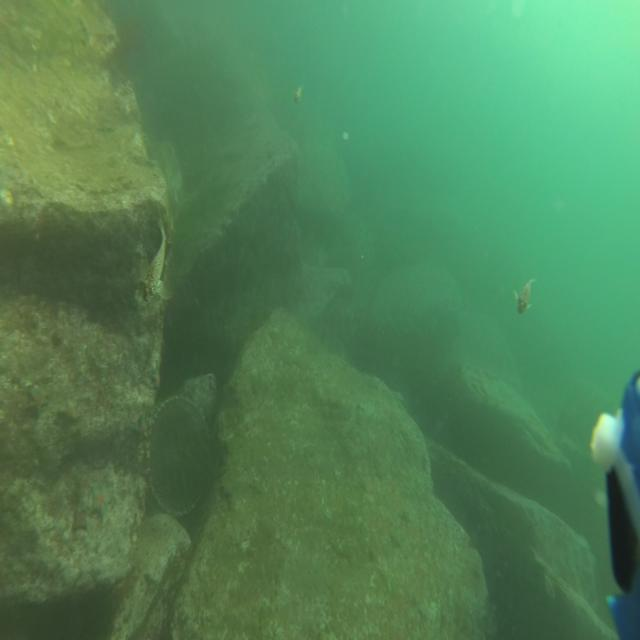starfish: (90, 482, 112, 521), (58, 395, 80, 433), (26, 384, 49, 420), (72, 506, 89, 531), (78, 14, 92, 40), (219, 478, 237, 498), (389, 528, 404, 551), (400, 507, 413, 528), (97, 121, 115, 136), (145, 158, 162, 170)
